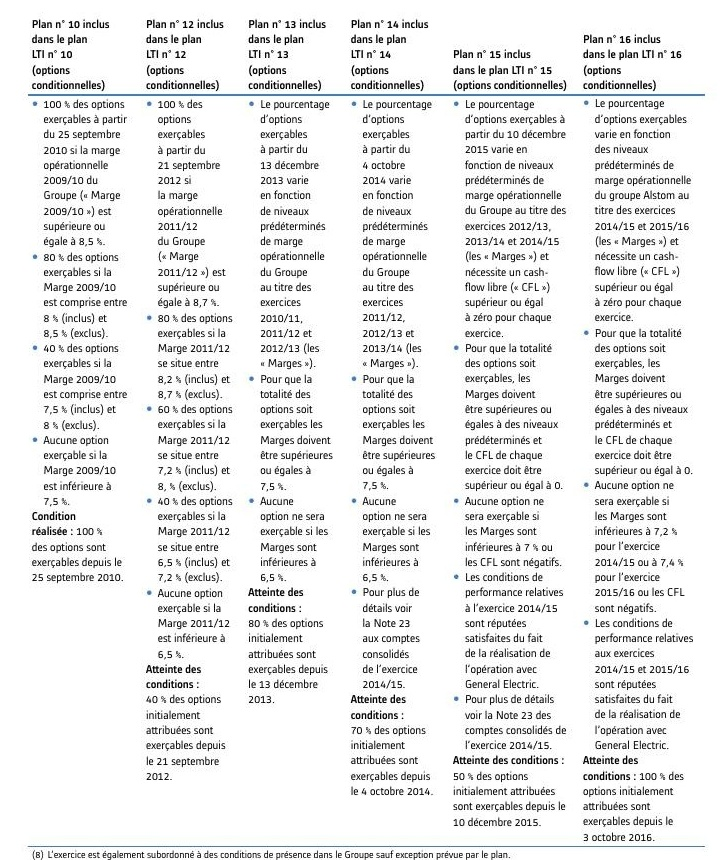table: (0, 0, 725, 860)
